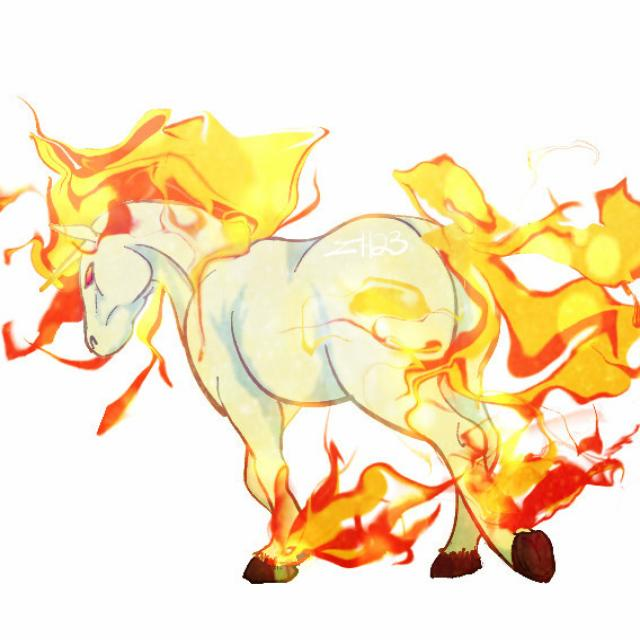Rapidash: (29, 126, 632, 593)
